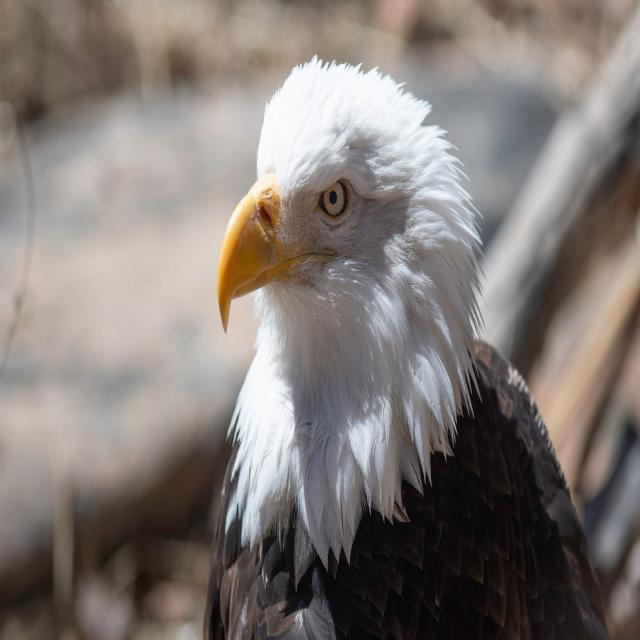Eagle: (214, 55, 588, 640)
